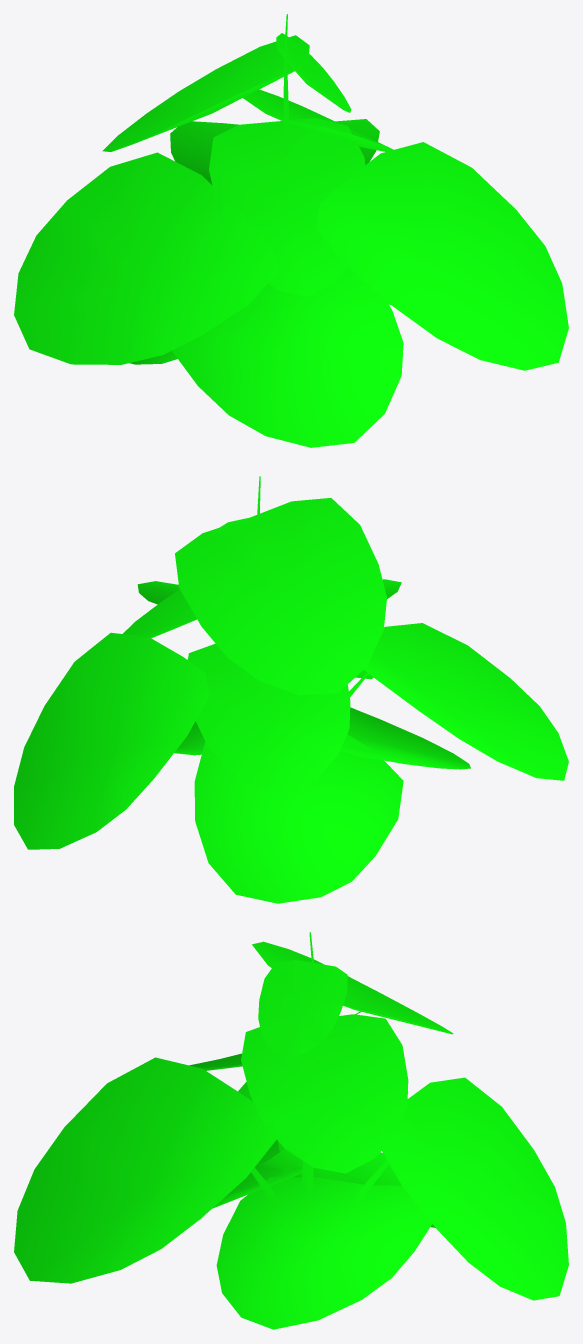
The model's file is SmallPalm_Small_2018.FBX.
The picture shows the model from 3 angles, top to bottom: view 1: azimuth 30°, elevation 25°; view 2: azimuth 150°, elevation 25°; view 3: azimuth 270°, elevation 25°; orthographic projection.
Parts seen in each view (by area): view 1: SmallPalmSmall_LOD0; view 2: SmallPalmSmall_LOD0; view 3: SmallPalmSmall_LOD0.
Part boxes in pixels (box(x1,y1,x2,y2)): SmallPalmSmall_LOD0: box(14, 14, 568, 447); SmallPalmSmall_LOD0: box(14, 476, 568, 903); SmallPalmSmall_LOD0: box(14, 932, 568, 1329).
Size of what is drawn, in the model's own units: 32.25 by 23.92 by 32.82.
